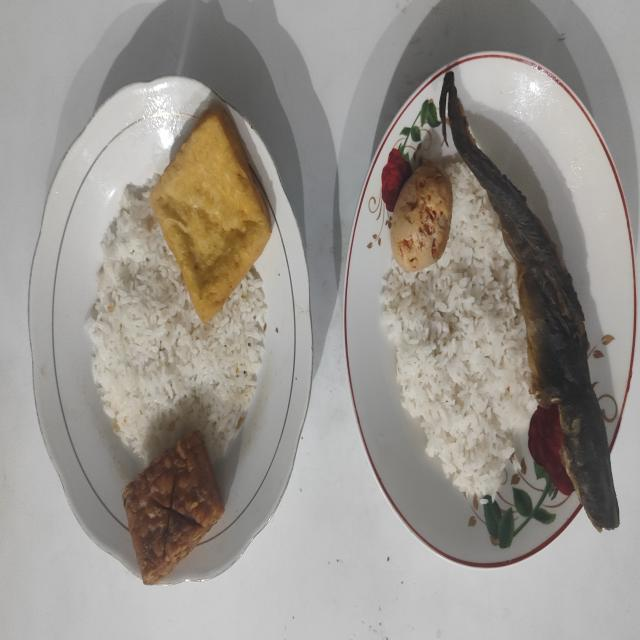nasi_putih: (381, 161, 537, 498), (86, 173, 267, 462)
tahu_goreng: (150, 105, 272, 322)
tempe_goreng: (123, 432, 224, 584)
